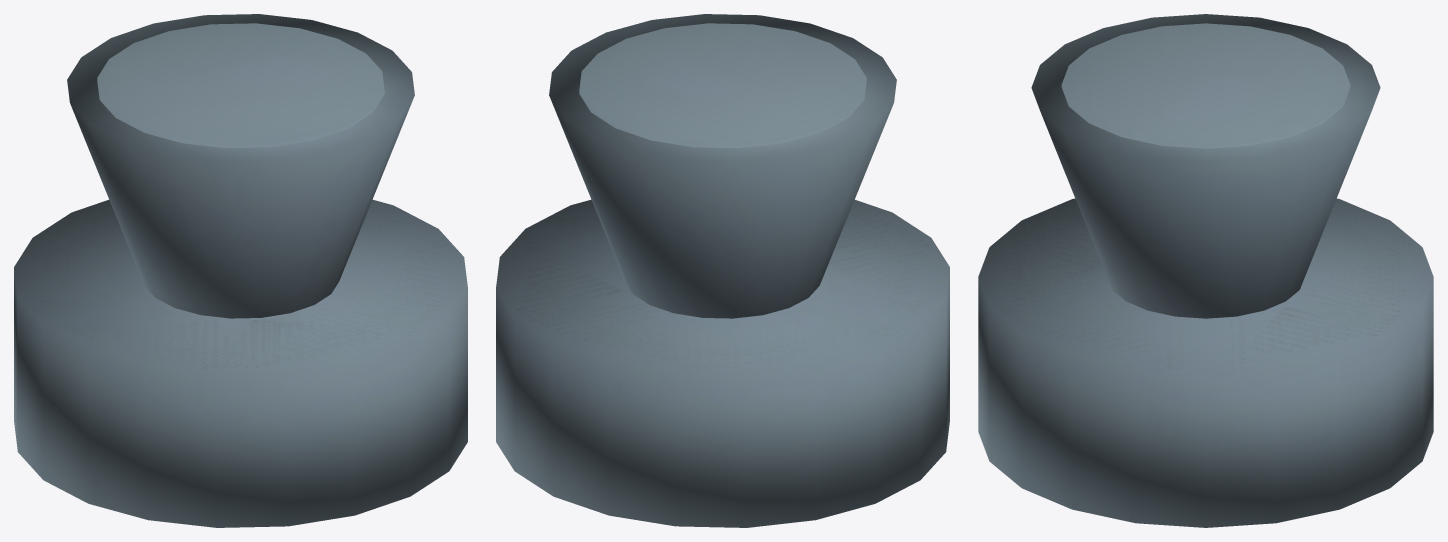
Rendered from SM_Propulseur_Manoeuvre.glb.
3 renders of one model, left to right at view 1: azimuth 30°, elevation 25°; view 2: azimuth 150°, elevation 25°; view 3: azimuth 270°, elevation 25°, orthographic.
Bounding box in the file's own units: 2 × 1.68 × 2.
Materials: 1 (1 with a texture image).
